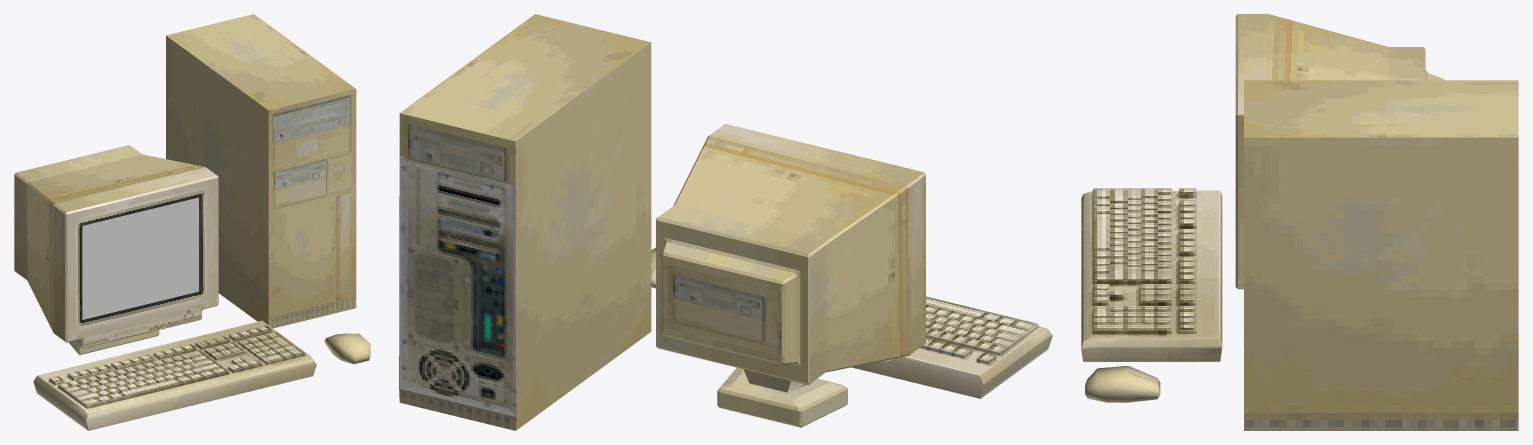
File: computer.glb
3 renders of one model, left to right at view 1: azimuth 30°, elevation 25°; view 2: azimuth 150°, elevation 25°; view 3: azimuth 270°, elevation 25°, orthographic. The views are drawn at different scales.
Visible parts, largest first — view 1: Computer; view 2: Computer; view 3: Computer.
Boxes of the visible parts, x1=… form: Computer: x1=14, y1=14, x2=370, y2=430; Computer: x1=399, y1=14, x2=1052, y2=430; Computer: x1=1081, y1=14, x2=1518, y2=430.
Bounding box in the file's own units: 0.9089 × 0.5735 × 0.7751.
2 materials, 1 textured.
